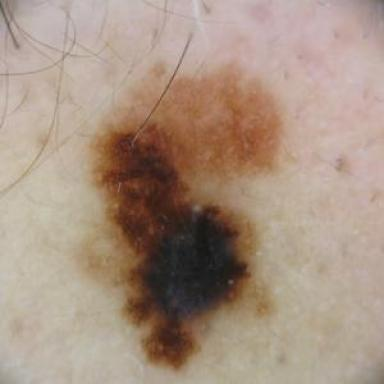Melanoma: (94, 125, 250, 369)
